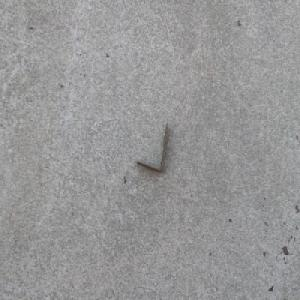MetalPart: (136, 121, 169, 175)
